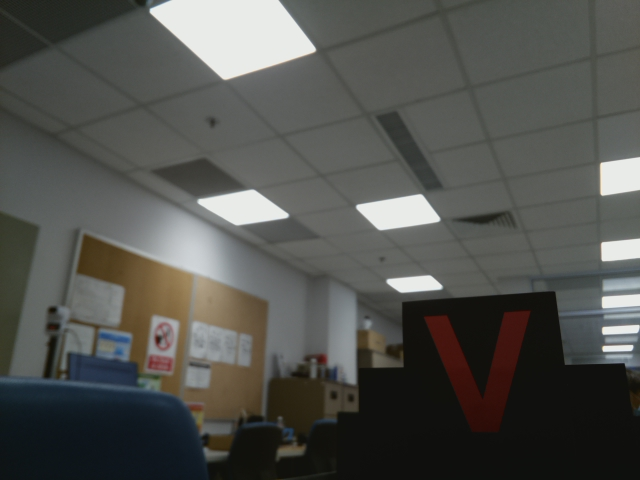v: (413, 312, 540, 433)
